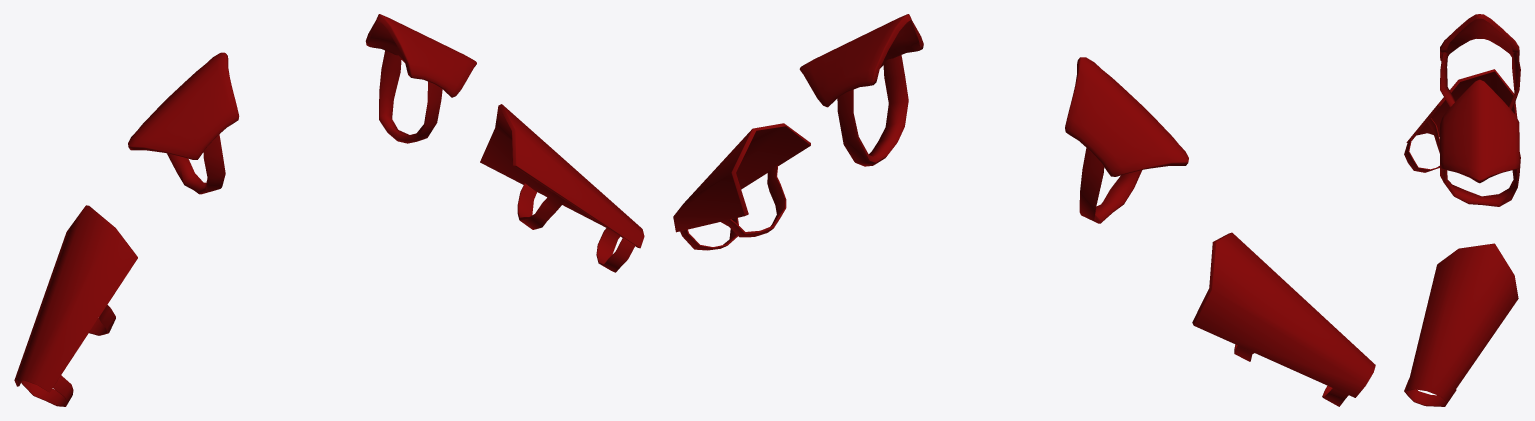
The model's file is equipement.fbx.
3 renders of one model, left to right at view 1: azimuth 30°, elevation 25°; view 2: azimuth 150°, elevation 25°; view 3: azimuth 270°, elevation 25°, orthographic. The views are drawn at different scales.
Visible parts, largest first — view 1: coudiere_g, coudiere_l, Epauliere_d, Epauliere_l; view 2: coudiere_g, Epauliere_d, Epauliere_l, coudiere_l; view 3: coudiere_l, Epauliere_l, Epauliere_d, coudiere_g.
Boxes of the visible parts, bbox=[...] form: coudiere_g: bbox=[14, 205, 137, 406]; coudiere_l: bbox=[480, 104, 644, 272]; Epauliere_d: bbox=[128, 52, 239, 194]; Epauliere_l: bbox=[365, 14, 476, 143]; coudiere_g: bbox=[1192, 232, 1375, 406]; Epauliere_d: bbox=[1065, 57, 1188, 223]; Epauliere_l: bbox=[799, 14, 923, 166]; coudiere_l: bbox=[673, 123, 810, 250]; coudiere_l: bbox=[1404, 243, 1518, 406]; Epauliere_l: bbox=[1440, 79, 1520, 206]; Epauliere_d: bbox=[1440, 14, 1520, 110]; coudiere_g: bbox=[1404, 69, 1517, 172].
Size of the model in its own units: 107 by 46.49 by 20.29.
